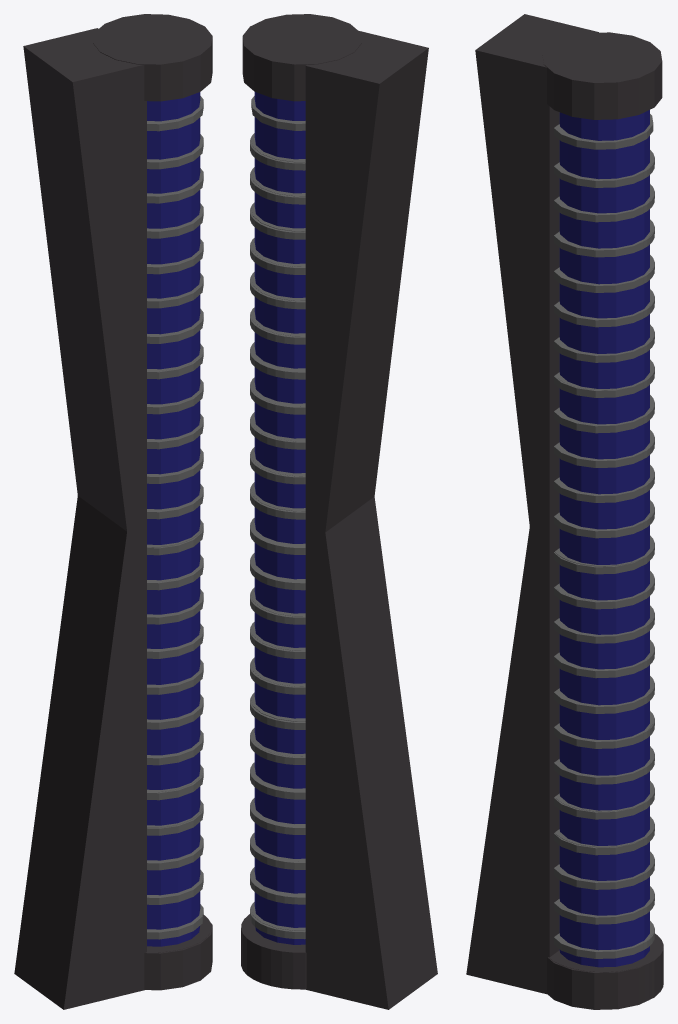
Rendered from Building1_New.fbx.
The picture shows the model from 3 angles, left to right: view 1: azimuth 30°, elevation 25°; view 2: azimuth 150°, elevation 25°; view 3: azimuth 330°, elevation 25°; orthographic projection.
Visible parts, largest first — view 1: Cube, Cylinder.052, Cylinder.029, Cylinder.028, Cylinder.031, Cylinder.030, Cylinder.033, Cylinder.042, Cylinder.045, Cylinder.051, Cylinder.049, Cylinder.003 (+17 smaller); view 2: Cube, Cylinder.052, Cylinder.029, Cylinder.002, Cylinder.022, Cylinder.010, Cylinder.016, Cylinder.015, Cylinder.023, Cylinder.001, Cylinder.009, Cylinder.011 (+16 smaller); view 3: Cylinder.052, Cube, Cylinder.029, Cylinder.028, Cylinder.002, Cylinder.001, Cylinder.042, Cylinder.031, Cylinder.046, Cylinder.034, Cylinder.049, Cylinder.050 (+17 smaller).
Part boxes in pixels (x1,y1,x2,y2): Cube: (14,28,146,1009); Cylinder.052: (147,92,200,946); Cylinder.029: (93,14,212,101); Cylinder.028: (144,922,212,990); Cylinder.031: (147,203,203,238); Cylinder.030: (147,168,203,203); Cylinder.033: (147,273,203,308); Cylinder.042: (147,589,203,624); Cylinder.045: (147,694,203,729); Cylinder.051: (147,904,203,939); Cylinder.049: (147,835,203,870); Cylinder.003: (147,134,203,169); Cube: (305,30,437,1009); Cylinder.052: (254,92,305,944); Cylinder.029: (242,14,361,101); Cylinder.002: (241,914,306,989); Cylinder.022: (250,762,305,799); Cylinder.010: (250,342,305,379); Cylinder.016: (250,553,305,590); Cylinder.015: (250,518,305,554); Cylinder.023: (250,798,305,834); Cylinder.001: (251,96,305,130); Cylinder.009: (250,307,305,344); Cylinder.011: (250,377,305,414); Cylinder.052: (559,110,649,967); Cube: (466,14,598,994); Cylinder.029: (542,32,662,119); Cylinder.028: (547,957,655,1009); Cylinder.002: (549,933,663,1001); Cylinder.001: (554,114,653,149); Cylinder.042: (554,608,653,643); Cylinder.031: (554,221,653,257); Cylinder.046: (554,749,653,784); Cylinder.034: (554,327,653,362); Cylinder.049: (554,854,653,889); Cylinder.050: (554,889,653,924).
Size of the model in its own units: 1967 by 10562 by 1275.
